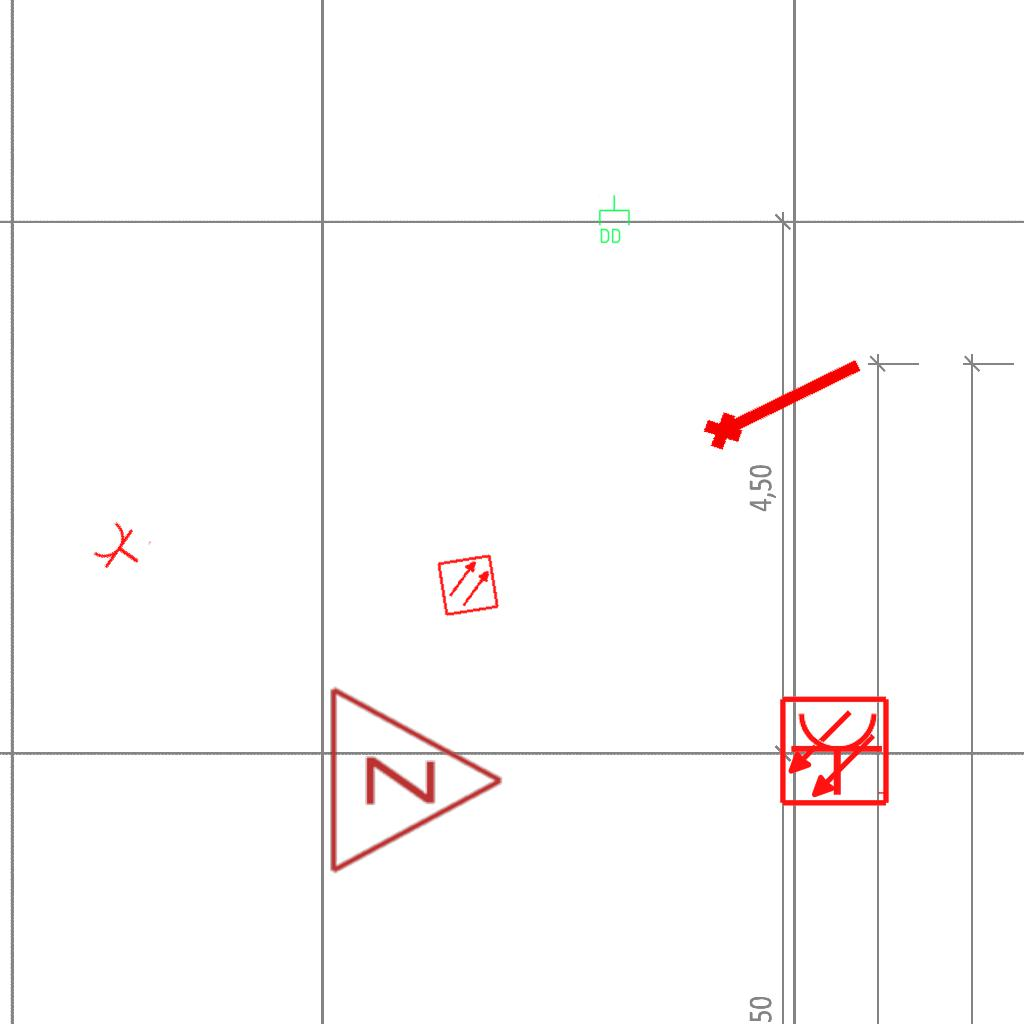ASR_Ansaugoeffnung: (693, 339, 873, 459)
Datenanschluss_zweifach: (597, 194, 631, 245)
RMO_Rauchmelder_optischer: (778, 695, 891, 808), (435, 552, 501, 618)
Schukosteckdose_einfach: (789, 710, 889, 797), (89, 516, 154, 582)
Zimmersignalleuchte: (316, 680, 516, 876)
